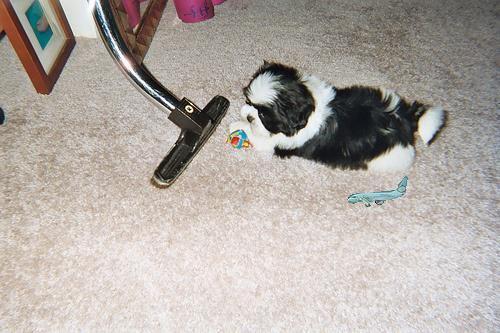tampered: (348, 177, 408, 207)
